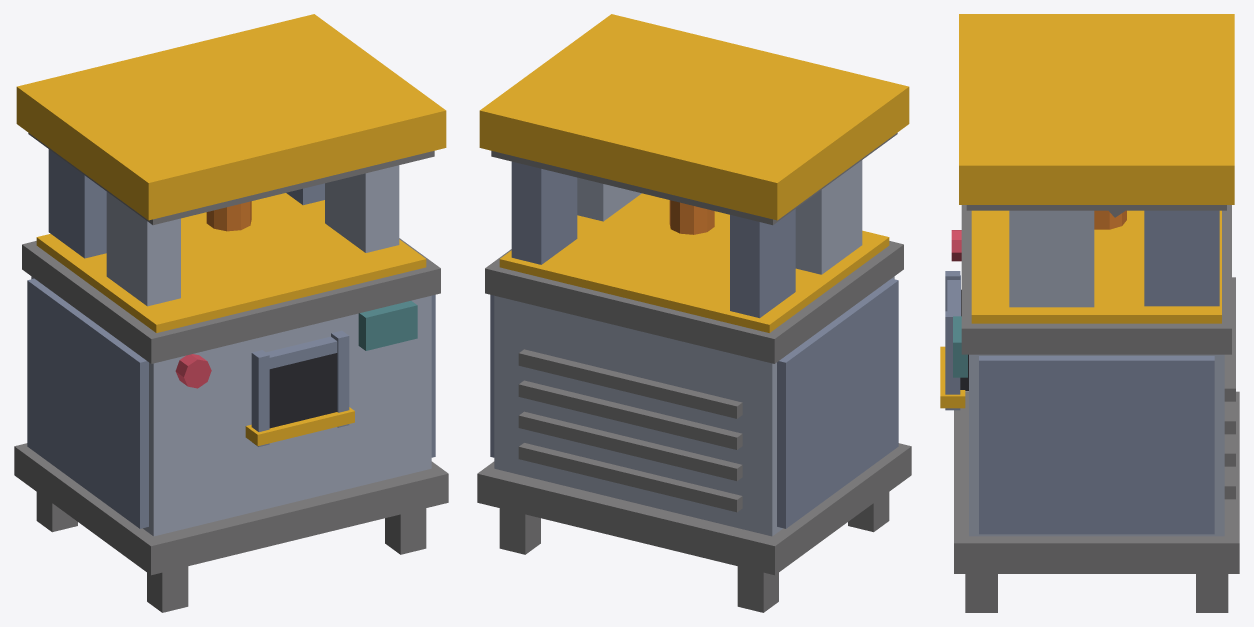
Rendered from machine.glb.
3 renders of one model, left to right at view 1: azimuth 30°, elevation 25°; view 2: azimuth 150°, elevation 25°; view 3: azimuth 270°, elevation 25°, orthographic. The views are drawn at different scales.
Visible parts, largest first — view 1: machine; view 2: machine; view 3: machine.
Part boxes in pixels (x1=…): machine: x1=14, y1=14, x2=448, y2=612; machine: x1=477, y1=14, x2=911, y2=612; machine: x1=940, y1=14, x2=1239, y2=612.
Size of the model in its own units: 1.5 by 2.1 by 1.25.
